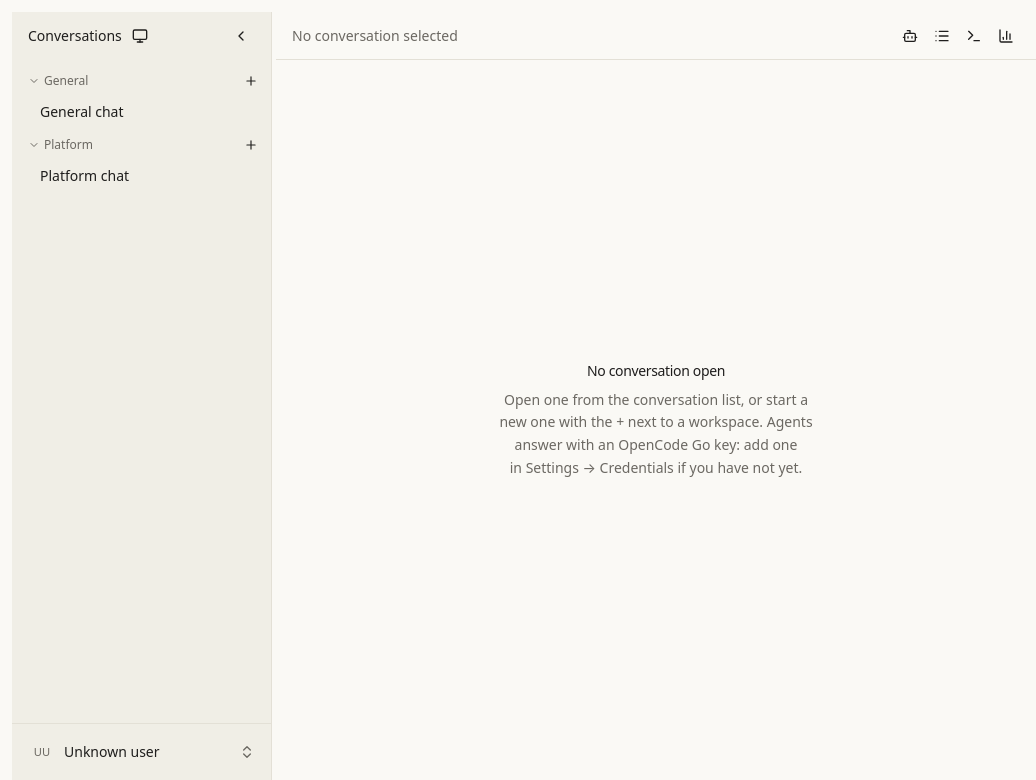
App › collapses a sidebar to a rail and restores it
Check: the button "General chat" is shown, box [20,96,263,128]
Step 1. Click the button named "Collapse Conversations" → (241, 36), box [227,22,255,50]
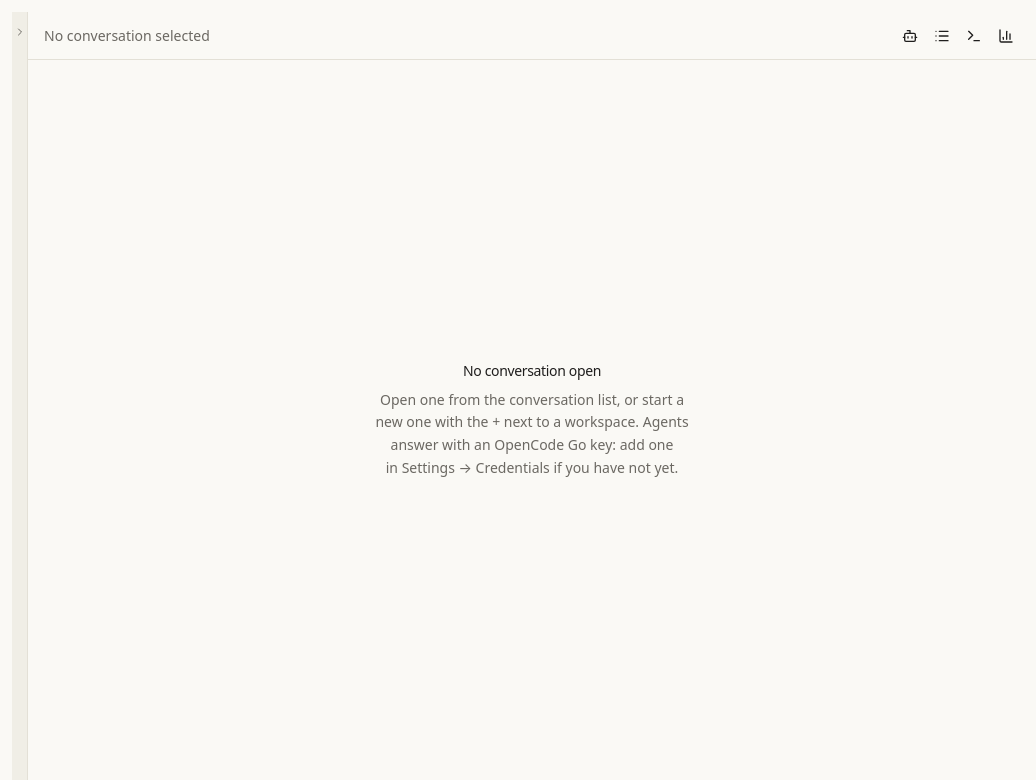
Check: the text "Conversations" is gone
Step 2. Click the button named "Expand Conversations" → (20, 396), box [12,12,28,779]
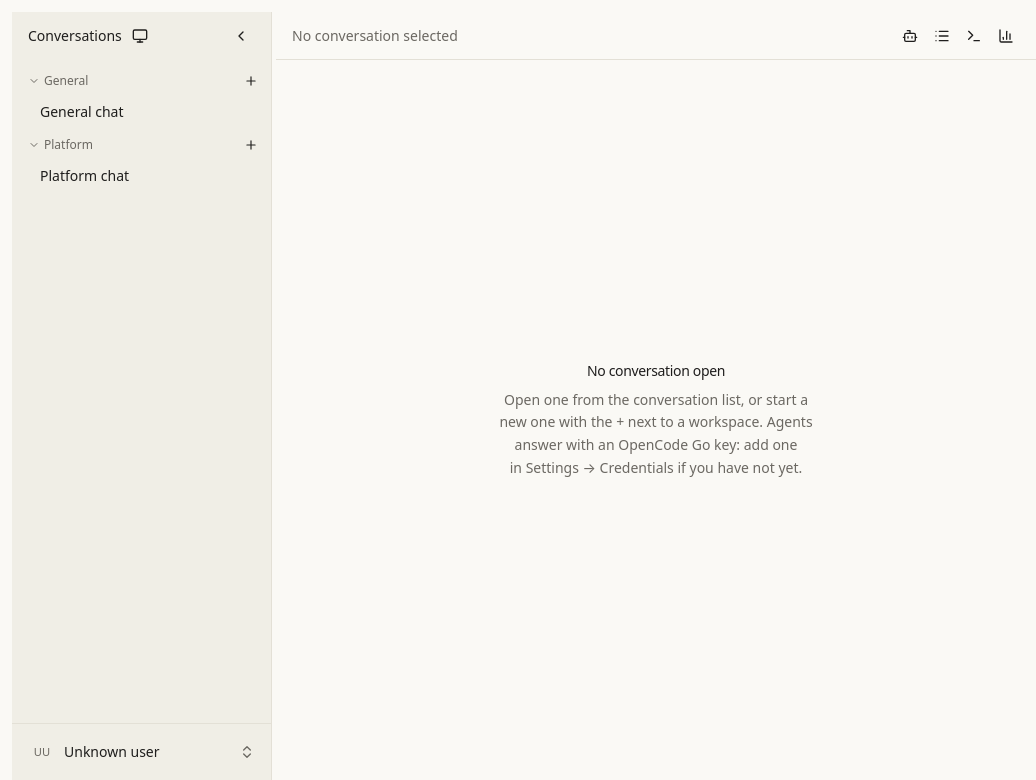
Check: the element "Conversations" is shown, box [12,12,272,779]
